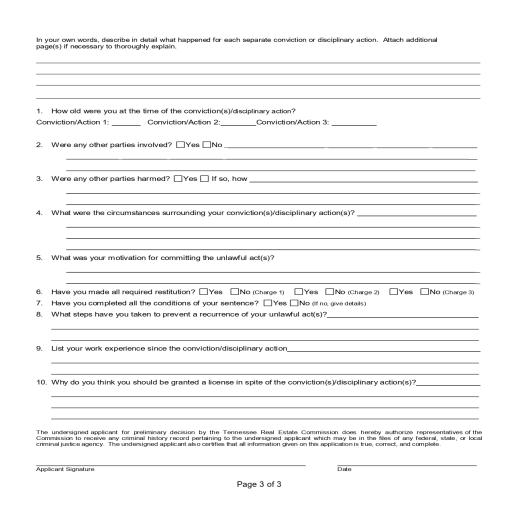Signature: (35, 467, 97, 474)
check_box: (172, 172, 211, 187), (198, 286, 251, 297), (388, 286, 441, 297), (177, 138, 223, 150), (290, 287, 345, 296), (262, 298, 310, 308)
date: (335, 467, 355, 472)
free_text: (51, 374, 417, 390), (51, 207, 356, 219), (52, 308, 328, 320), (49, 343, 287, 355), (48, 252, 277, 264), (34, 115, 109, 129), (254, 115, 329, 129), (145, 116, 221, 128)
